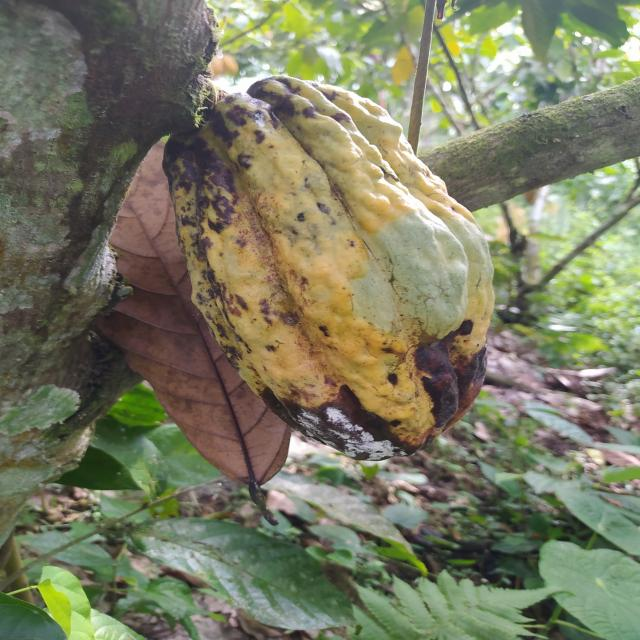Monilia: (160, 74, 496, 463)
